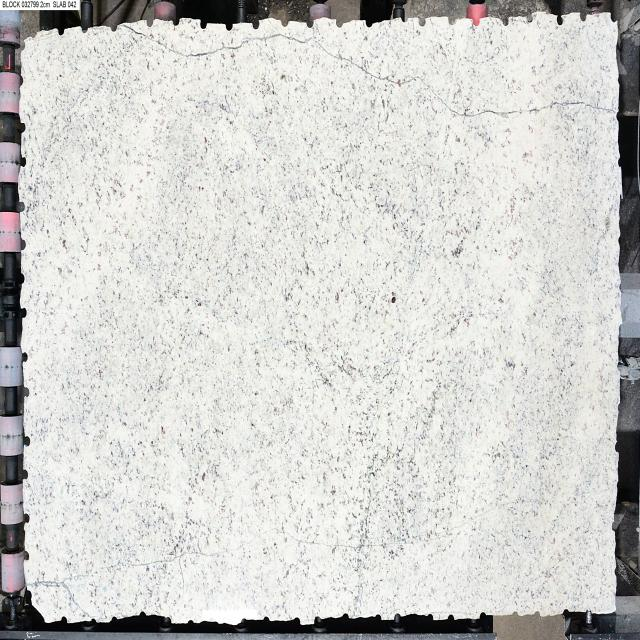chapa: (20, 14, 621, 623)
